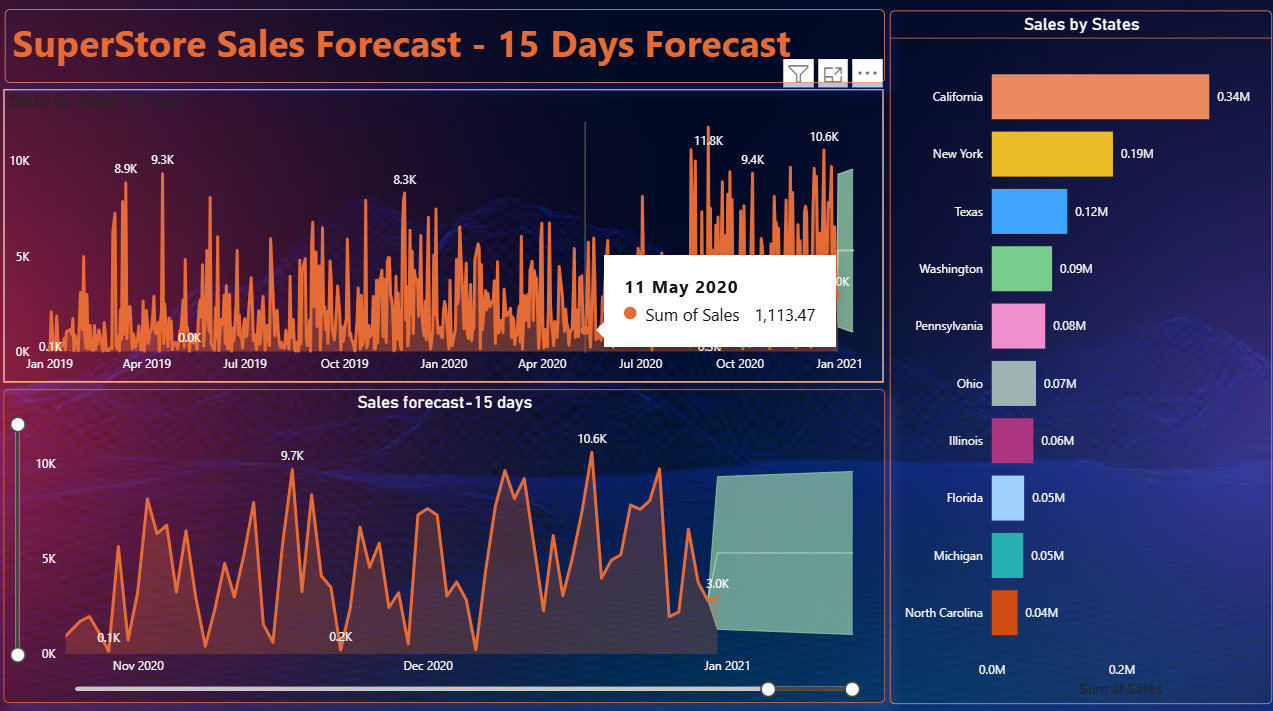

What the dashboard file says about the page in this screenshot:
{"tool":"powerbi","page":{"name":"Sales_forecast","canvas":[1280,720],"ordinal":1},"visuals":[{"type":"lineChart","title":"Sales forecast-15 days","fields":{"Y":["Sum(SuperStore_Sales_Dataset.Sales)"],"Category":["SuperStore_Sales_Dataset.Order Date"]},"box":[7.5,91.2,880,293.8],"z":0},{"type":"lineChart","title":" Sales forecast-15 days","fields":{"Y":["Sum(SuperStore_Sales_Dataset.Sales)"],"Category":["SuperStore_Sales_Dataset.Order Date"]},"box":[7.5,391.2,881.2,313.8],"z":1000},{"type":"textbox","box":[8.8,11.2,880,73.8],"z":2000},{"type":"clusteredBarChart","title":"Sales by States","fields":{"Y":["Sum(SuperStore_Sales_Dataset.Sales)"],"Category":["SuperStore_Sales_Dataset.State"]},"box":[893.8,12.5,382.5,693.8],"z":3000}]}

Visuals, with their boxes in screenshot pixels (x1, y1, x2, y2), scaled from the page's 1280x720 canvas onto the 1273x711 screenshot:
"Sales forecast-15 days" lineChart: (left=7, top=90, right=883, bottom=380)
" Sales forecast-15 days" lineChart: (left=7, top=386, right=884, bottom=696)
textbox: (left=9, top=11, right=884, bottom=84)
"Sales by States" clusteredBarChart: (left=889, top=12, right=1269, bottom=697)
